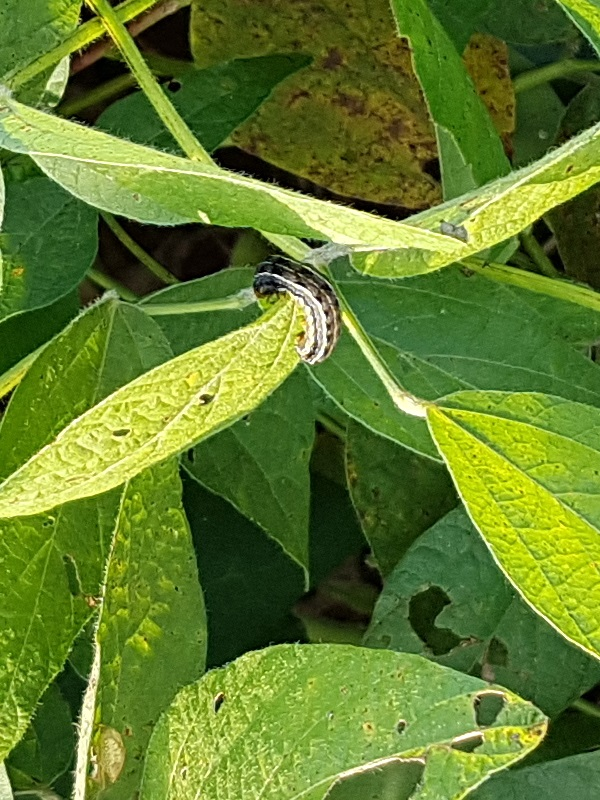Euschistus_heros_ninfa: (76, 716, 142, 797)
Spodoptera_albula: (242, 242, 358, 387)
